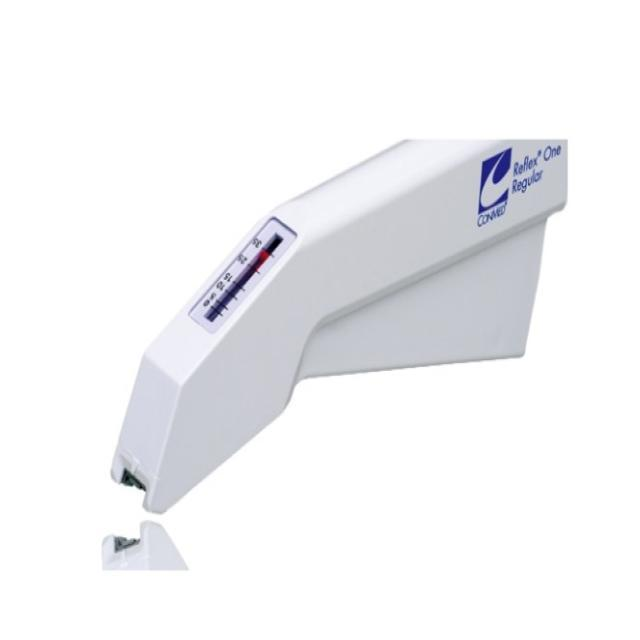Skin Stapler: (98, 133, 570, 518)
